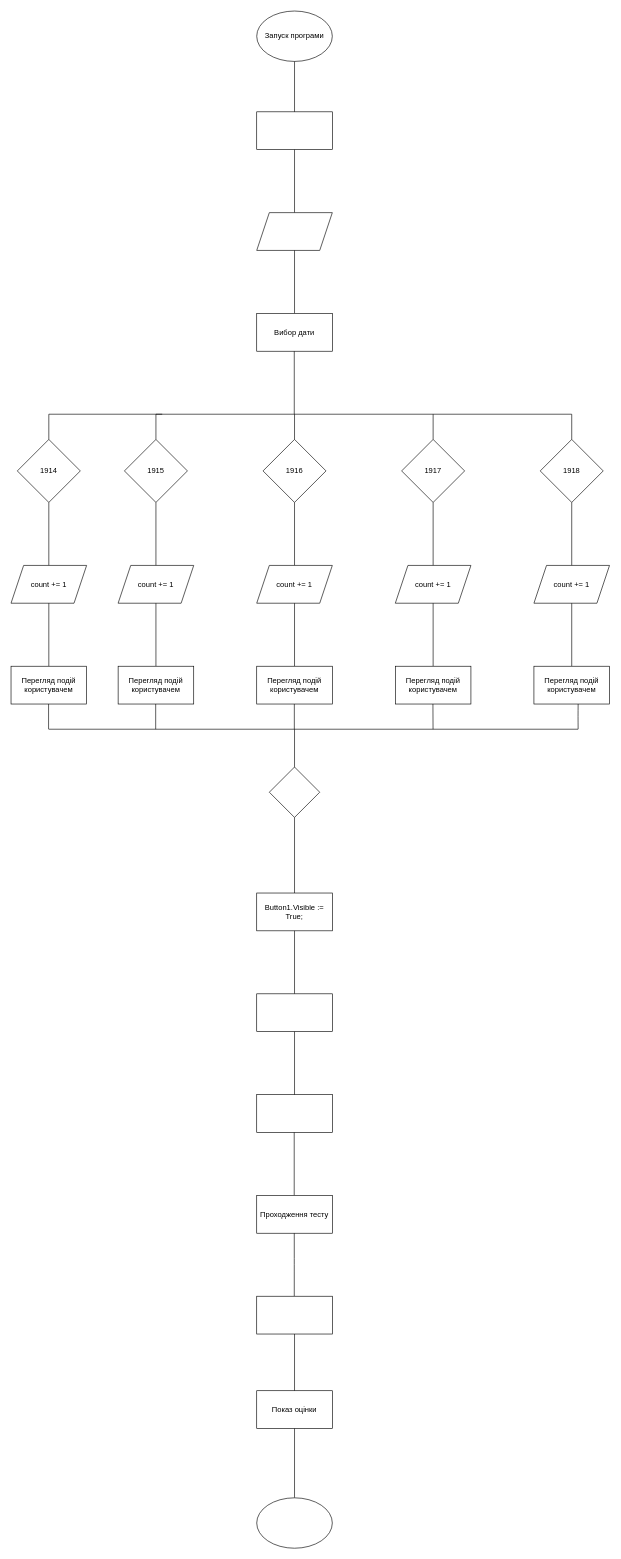
The diagram is 621 pixels wide and 1559 high, and some of its shapes have lost their labels. Here are the shapes that lost their labels. From the top down, the box of each, then its label:
(256, 111, 332, 150): Натиск кнопки "Почати"
(256, 212, 332, 250): count := 0
(269, 766, 320, 817): count = 5
(256, 993, 332, 1032): Натиск на кнопку тест
(256, 1094, 332, 1132): Відкриття форми з тестом
(256, 1296, 332, 1334): Натиск на кнопку завершити
(256, 1497, 332, 1548): Кінець
